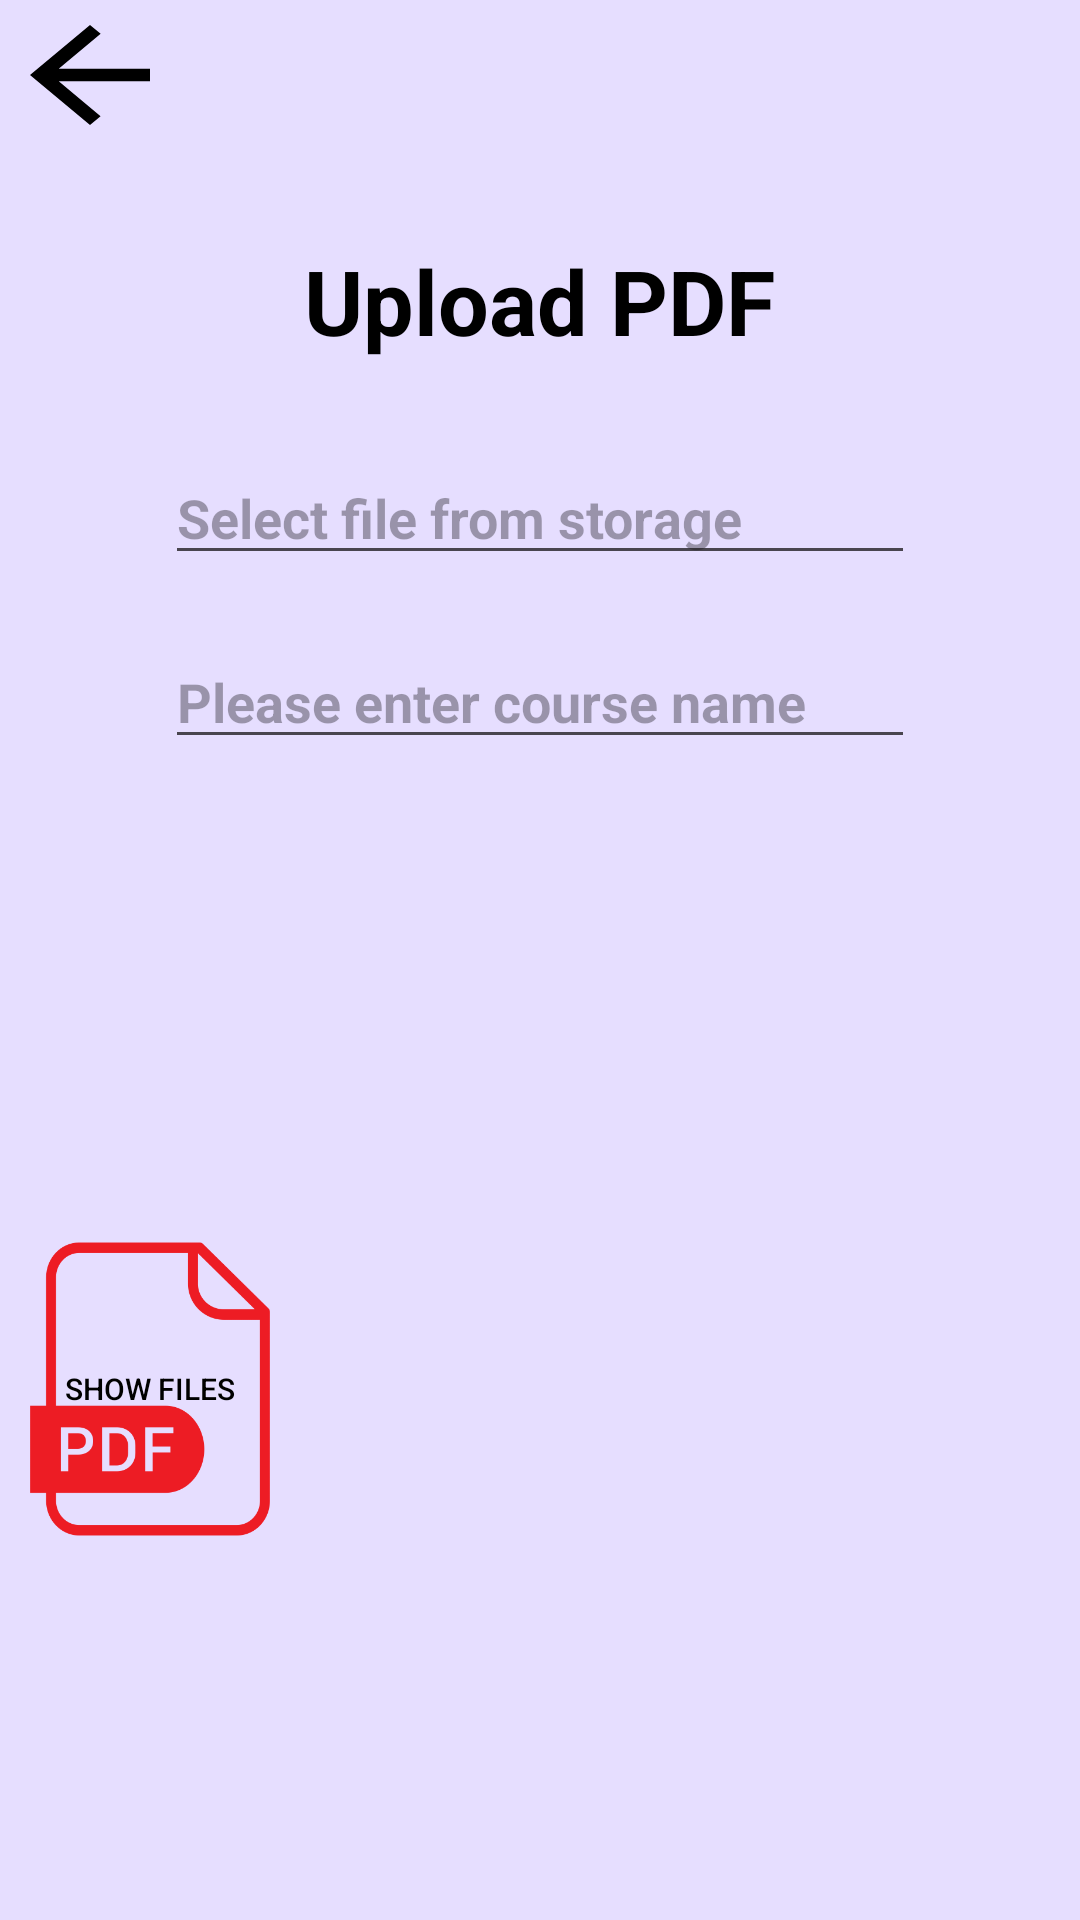

Icons on this 1080×1920 Android screen, each with the point to tap as (x,y):
arrow back: (90,75)
